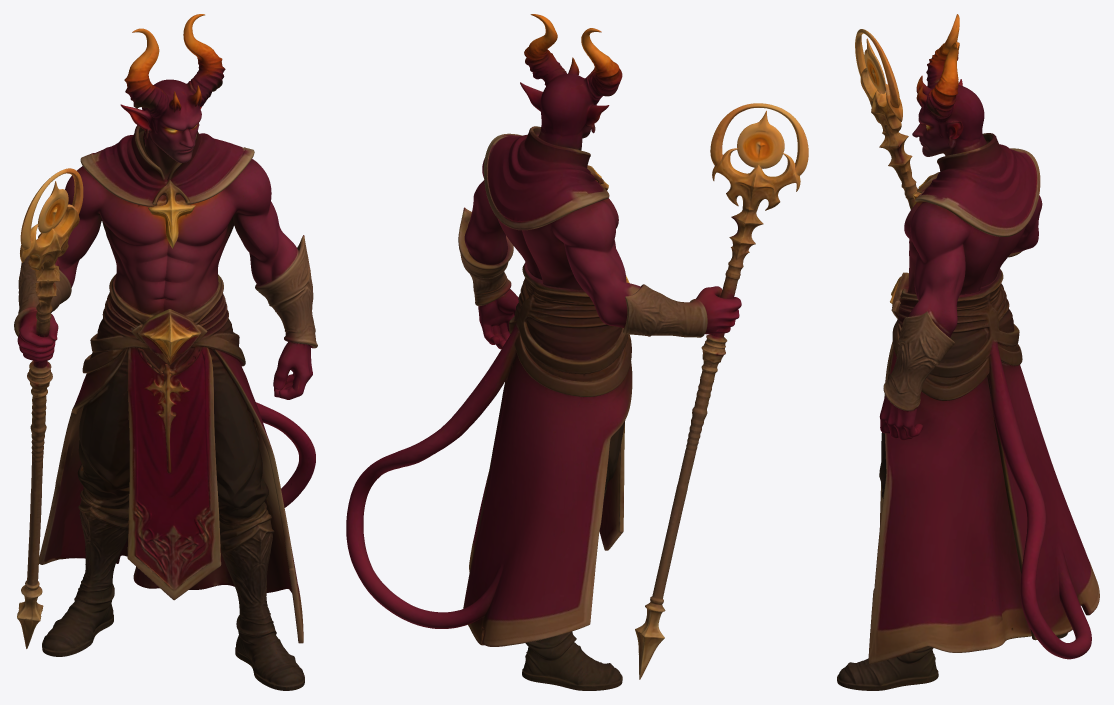
The model's file is tiefling_cleric_full_male_01.glb.
3 renders of one model, left to right at view 1: azimuth 30°, elevation 25°; view 2: azimuth 150°, elevation 25°; view 3: azimuth 270°, elevation 25°, orthographic. The views are drawn at different scales.
Parts seen in each view (by area): view 1: material; view 2: material; view 3: material.
Part boxes in pixels (x1=…): material: x1=14, y1=14, x2=317, y2=690; material: x1=346, y1=14, x2=808, y2=690; material: x1=837, y1=14, x2=1099, y2=690.
Bounding box in the file's own units: 0.6848 × 1.1 × 0.4195.
1 material, 1 textured.
